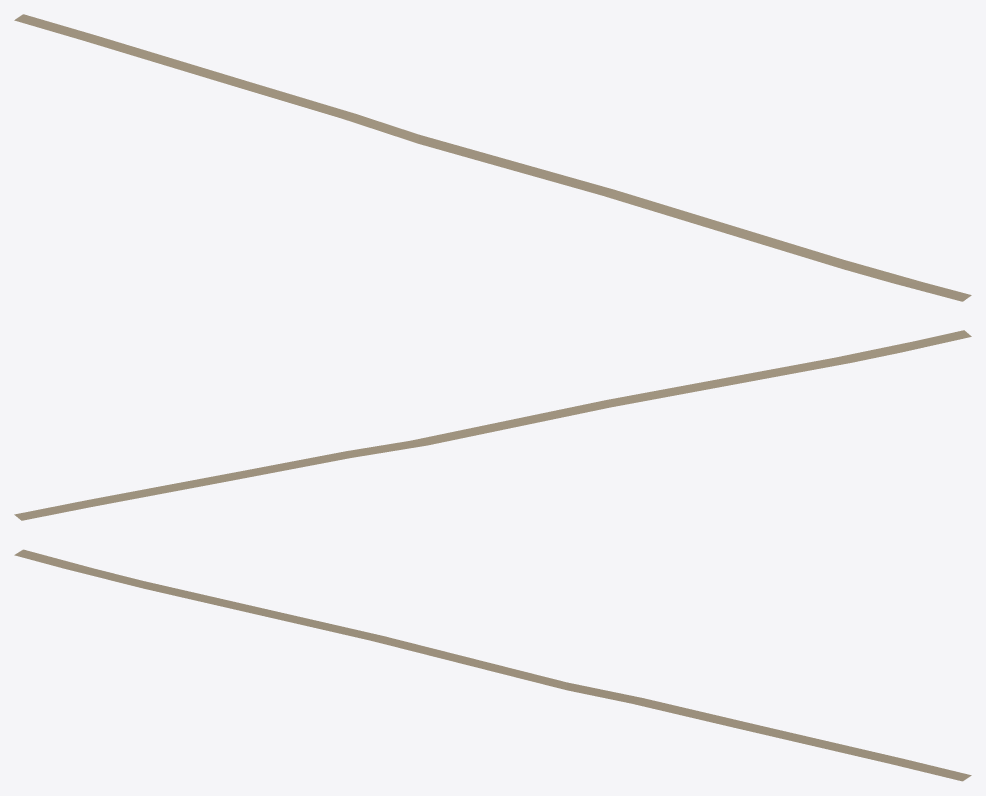
File: farm_6_0_track.glb
The picture shows the model from 3 angles, top to bottom: view 1: azimuth 90°, elevation 25°; view 2: azimuth 150°, elevation 25°; view 3: azimuth 270°, elevation 25°; orthographic projection. The views are drawn at different scales.
Visible parts, largest first — view 1: geometry_0; view 2: geometry_0; view 3: geometry_0.
Boxes of the visible parts, box(x1,y1,x2,y2) form: geometry_0: box(14, 14, 971, 301); geometry_0: box(14, 330, 971, 520); geometry_0: box(14, 549, 971, 781).
Size of the model in its own units: 116 by 5.83 by 181.
